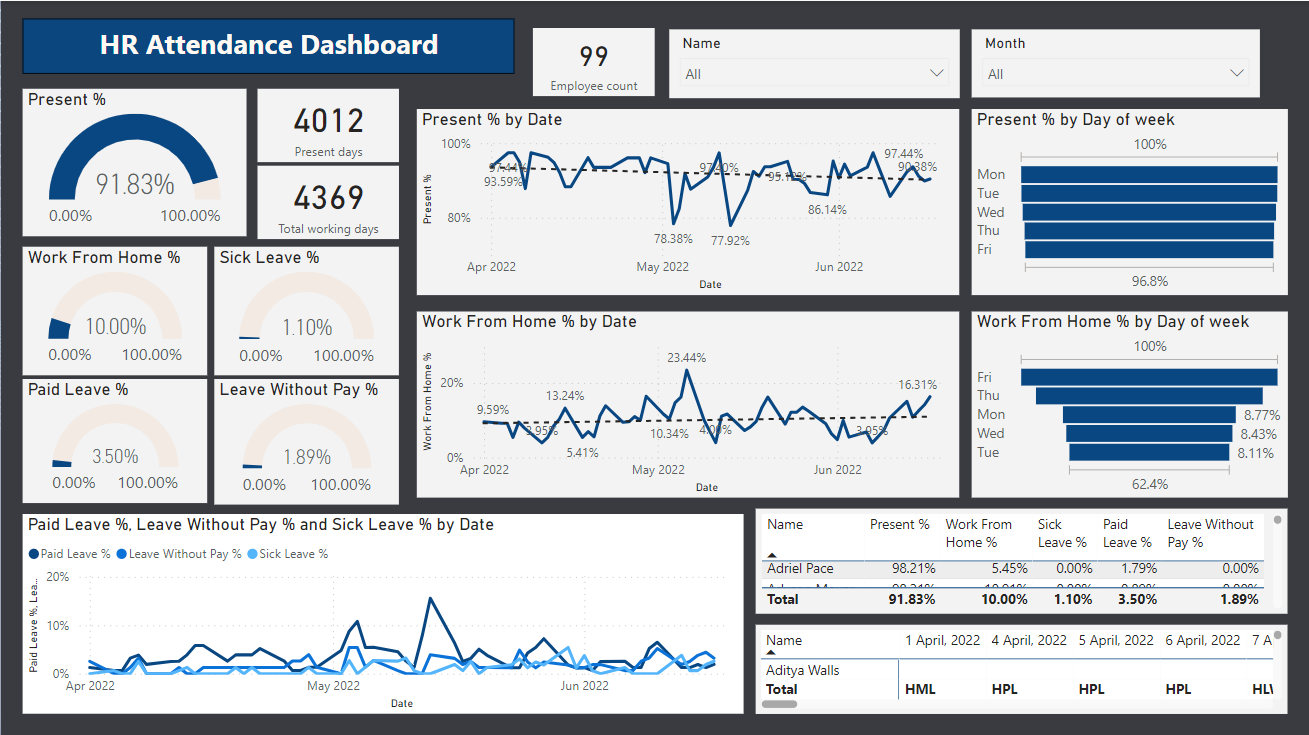

The page's visual inventory and layout, read from the dashboard file:
{"tool":"powerbi","page":{"name":"Attendace insights","canvas":[1280,720],"ordinal":0},"visuals":[{"type":"gauge","fields":{"Y":["Measures Table.Present %"]},"box":[21.1,85.9,219.4,144.1],"z":0},{"type":"slicer","fields":{"Values":["Final Data.Month"]},"box":[950,28,282,67],"z":1000},{"type":"gauge","fields":{"Y":["Measures Table.WFH %"]},"box":[21.1,240.6,181.1,125.6],"z":2000},{"type":"gauge","fields":{"Y":["Measures Table.SL %"]},"box":[209,240.5,180.5,126],"z":3000},{"type":"tableEx","fields":{"Values":["Final Data.Name","Measures Table.Present %","Measures Table.WFH %","Measures Table.SL %","Measures Table.PL %","Measures Table.WPL %"]},"box":[738.9,497,520.8,103.1],"z":4000},{"type":"pivotTable","fields":{"Rows":["Final Data.Name"],"Values":["Min(Final Data.Value)"],"Columns":["Final Data.Date"]},"box":[738.9,610.7,520.8,87.2],"z":5000},{"type":"lineChart","fields":{"Category":["Final Data.Date"],"Y":["Measures Table.Present %"]},"box":[407.1,105.7,531.4,182.4],"z":6000},{"type":"lineChart","fields":{"Category":["Final Data.Date"],"Y":["Measures Table.WFH %"]},"box":[407.1,304,531.4,182.4],"z":7000},{"type":"funnel","fields":{"Category":["Final Data.Day of week"],"Y":["Measures Table.Present %"]},"box":[950.4,105.7,309.3,182.4],"z":8000},{"type":"funnel","fields":{"Category":["Final Data.Day of week"],"Y":["Measures Table.WFH %"]},"box":[950.4,304,309.3,182.4],"z":9000},{"type":"card","fields":{"Values":["Measures Table.Employee count"]},"box":[521,27,119,67],"z":10000},{"type":"slicer","fields":{"Values":["Final Data.Name"]},"box":[654.3,27.8,284.2,67.4],"z":11000},{"type":"lineChart","fields":{"Category":["Final Data.Date"],"Y":["Measures Table.PL %","Measures Table.WPL %","Measures Table.SL %"]},"box":[21.1,502.3,705.8,195.6],"z":12000},{"type":"gauge","fields":{"Y":["Measures Table.PL %"]},"box":[21.1,370.1,181.1,121.6],"z":13000},{"type":"gauge","fields":{"Y":["Measures Table.WPL %"]},"box":[208.8,370.1,181.1,122.9],"z":14000},{"type":"card","fields":{"Values":["Measures Table.Total working days"]},"box":[251.1,161.3,138.8,72],"z":15000},{"type":"card","fields":{"Values":["Measures Table.Present days"]},"box":[251.1,85.9,138.8,72],"z":16000},{"type":"textbox","box":[21.1,17.2,481.1,54.2],"z":17000}]}

Visuals, with their boxes in screenshot pixels (x1, y1, x2, y2), scaled from the page's 1280x720 canvas onto the 1309x735 screenshot:
gauge - Measures Table.Present %: 22, 88, 246, 235
slicer - Final Data.Month: 972, 29, 1260, 97
gauge - Measures Table.WFH %: 22, 246, 207, 374
gauge - Measures Table.SL %: 214, 246, 398, 374
tableEx - Final Data.Name x Measures Table.Present %: 756, 507, 1288, 613
pivotTable - Final Data.Name x Min(Final Data.Value): 756, 623, 1288, 712
lineChart - Final Data.Date x Measures Table.Present %: 416, 108, 960, 294
lineChart - Final Data.Date x Measures Table.WFH %: 416, 310, 960, 497
funnel - Final Data.Day of week x Measures Table.Present %: 972, 108, 1288, 294
funnel - Final Data.Day of week x Measures Table.WFH %: 972, 310, 1288, 497
card - Measures Table.Employee count: 533, 28, 654, 96
slicer - Final Data.Name: 669, 28, 960, 97
lineChart - Final Data.Date x Measures Table.PL %: 22, 513, 743, 712
gauge - Measures Table.PL %: 22, 378, 207, 502
gauge - Measures Table.WPL %: 214, 378, 399, 503
card - Measures Table.Total working days: 257, 165, 399, 238
card - Measures Table.Present days: 257, 88, 399, 161
textbox: 22, 18, 514, 73
